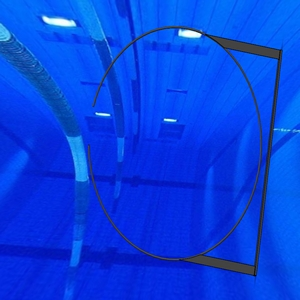circle: (86, 24, 283, 277)
